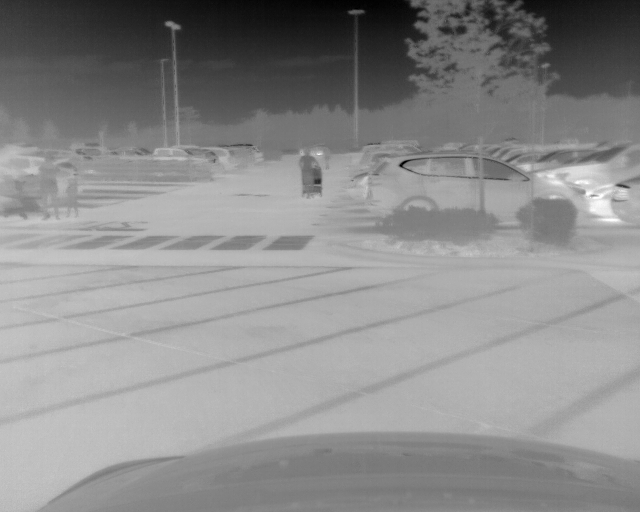car: (361, 153, 588, 229), (532, 142, 640, 220), (1, 154, 76, 213), (152, 145, 208, 178), (613, 174, 640, 228), (209, 146, 244, 172), (241, 145, 264, 168), (300, 143, 329, 158)
people: (38, 154, 60, 218), (300, 149, 319, 199), (65, 155, 80, 213)
